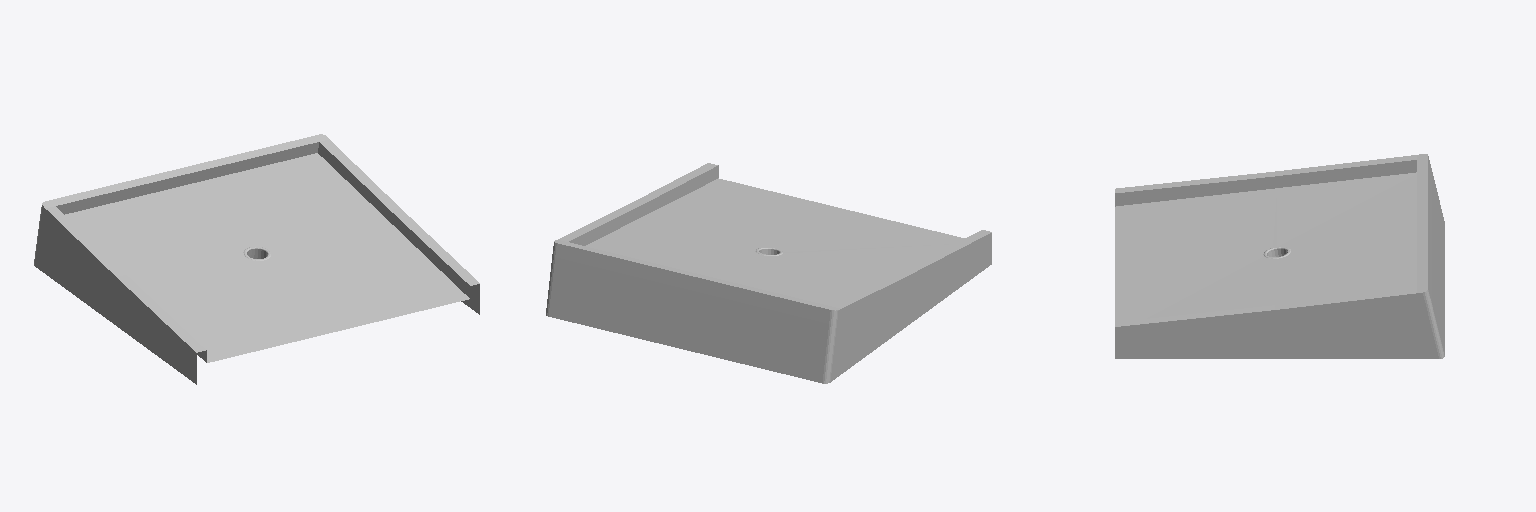
Rendered from sSlopeHole_Mid_3x3.obj.
3 views of the same model, side by side, from view 1: azimuth 30°, elevation 25°; view 2: azimuth 150°, elevation 25°; view 3: azimuth 270°, elevation 25° (orthographic).
Visible parts, largest first — view 1: modelPanel2ViewSelectedSet sSlopeHole_Mid_3x3; view 2: modelPanel2ViewSelectedSet sSlopeHole_Mid_3x3; view 3: modelPanel2ViewSelectedSet sSlopeHole_Mid_3x3.
Boxes of the visible parts, box(x1,y1,x2,y2) form: modelPanel2ViewSelectedSet sSlopeHole_Mid_3x3: box(34, 134, 479, 384); modelPanel2ViewSelectedSet sSlopeHole_Mid_3x3: box(546, 163, 991, 383); modelPanel2ViewSelectedSet sSlopeHole_Mid_3x3: box(1115, 154, 1444, 358).
Bounding box in the file's own units: 3 × 0.6807 × 3.02.